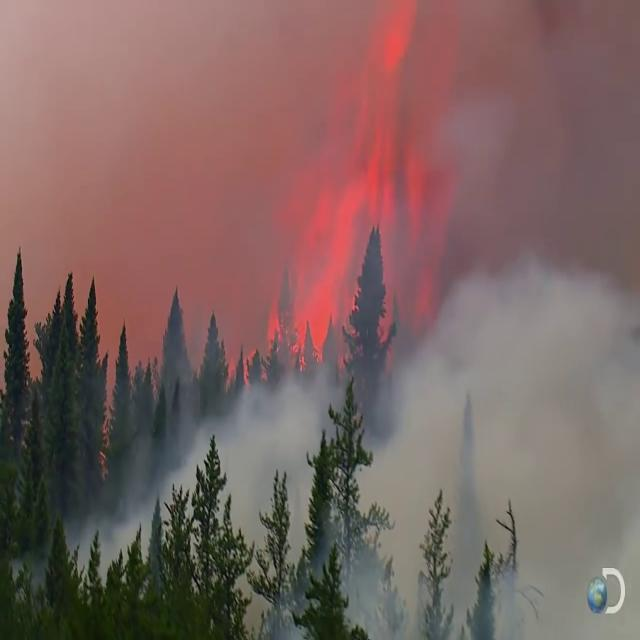Smoke: (266, 397, 640, 640), (64, 429, 305, 569), (465, 271, 640, 388)
